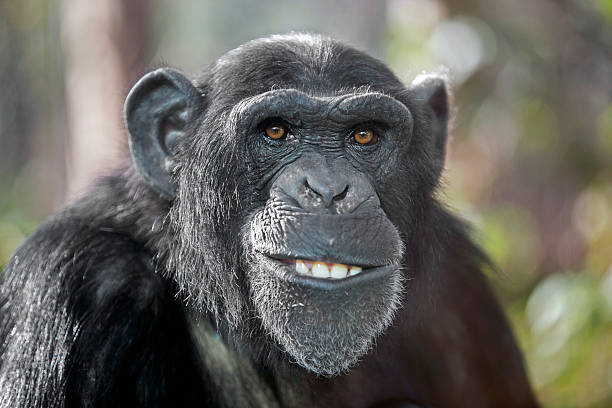chimpanzee: (84, 15, 495, 401)
